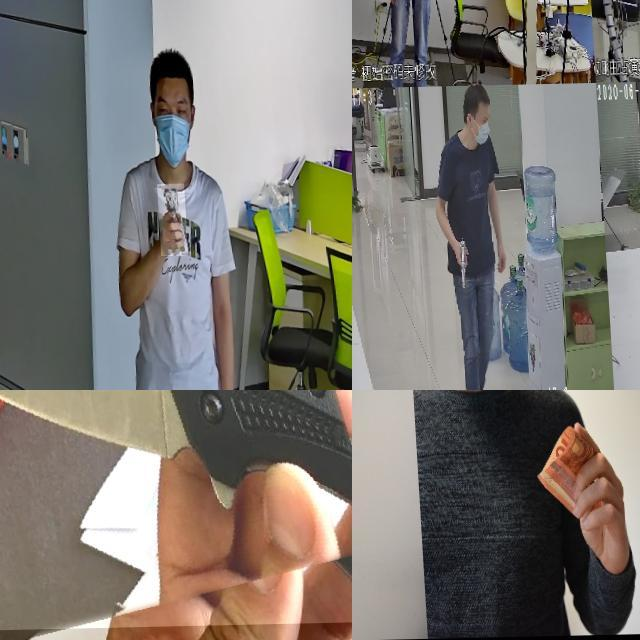-: (0, 390, 352, 632)
gun-knife-thesis - v11 Yolov5 augmented: (154, 185, 184, 258), (447, 235, 462, 289), (389, 0, 404, 16)
